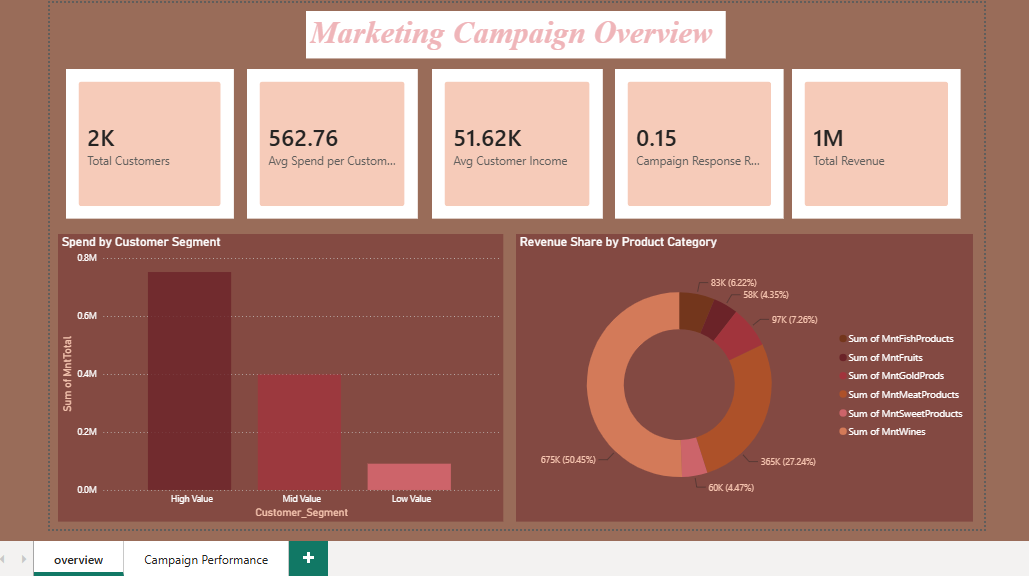

The dashboard page shown, as its layout file describes it:
{"tool":"powerbi","page":{"name":"overview","canvas":[1280,720],"ordinal":0},"visuals":[{"type":"cardVisual","fields":{"Data":["ifood_df.Total Customers"]},"box":[22,90.8,229.8,205.1],"z":0},{"type":"cardVisual","fields":{"Data":["ifood_df.Total Revenue"]},"box":[1017.1,90.8,231.2,205.1],"z":1000},{"type":"cardVisual","fields":{"Data":["ifood_df.Avg Customer Income"]},"box":[523,90.8,234,205.1],"z":2000},{"type":"cardVisual","fields":{"Data":["ifood_df.Avg Spend per Customer"]},"box":[269.8,90.8,234,205.1],"z":3000},{"type":"cardVisual","fields":{"Data":["ifood_df.Campaign Response Rate"]},"box":[773.5,90.8,231.2,205.1],"z":4000},{"type":"clusteredColumnChart","title":"Spend by Customer Segment","fields":{"Category":["ifood_df.Customer_Segment"],"Y":["Sum(ifood_df.MntTotal)"]},"box":[11,316.6,609.7,393.6],"z":5000},{"type":"donutChart","title":"Revenue Share by Product Category","fields":{"Y":["Sum(ifood_df.MntFishProducts)","Sum(ifood_df.MntFruits)","Sum(ifood_df.MntGoldProds)","Sum(ifood_df.MntMeatProducts)","Sum(ifood_df.MntSweetProducts)","Sum(ifood_df.MntWines)"]},"box":[638.6,316.6,626.2,393.6],"z":6000},{"type":"textbox","box":[351,11,575.3,64.7],"z":7000}]}

Visuals, with their boxes on the page's 1280x720 design canvas (x1, y1, x2, y2). These are canvas units, not pixel positions in the 1029x576 screenshot, which may show the page scaled, cropped or inside an application window:
cardVisual - ifood_df.Total Customers: BBox(22, 91, 252, 296)
cardVisual - ifood_df.Total Revenue: BBox(1017, 91, 1248, 296)
cardVisual - ifood_df.Avg Customer Income: BBox(523, 91, 757, 296)
cardVisual - ifood_df.Avg Spend per Customer: BBox(270, 91, 504, 296)
cardVisual - ifood_df.Campaign Response Rate: BBox(774, 91, 1005, 296)
"Spend by Customer Segment" clusteredColumnChart: BBox(11, 317, 621, 710)
"Revenue Share by Product Category" donutChart: BBox(639, 317, 1265, 710)
textbox: BBox(351, 11, 926, 76)
